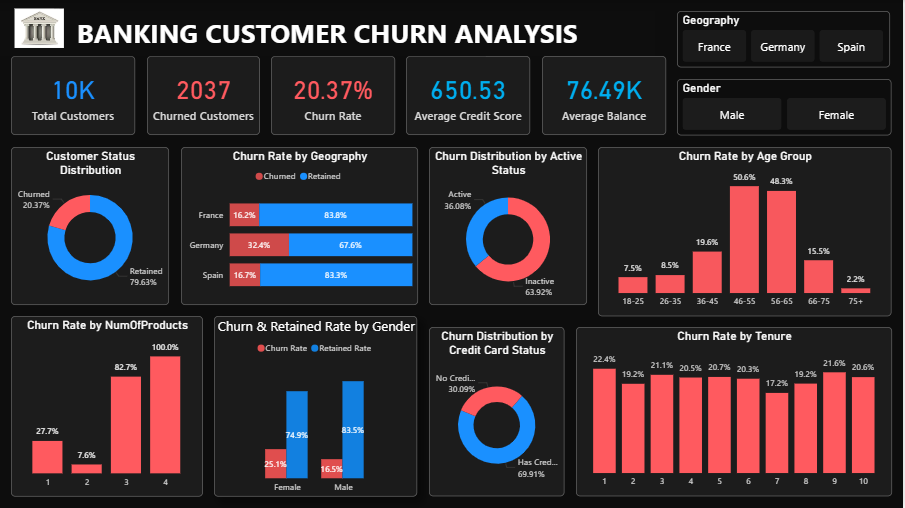

Layout of this report page (visuals, bound fields, positions):
{"tool":"powerbi","page":{"name":"Page 1","canvas":[1280,720],"ordinal":0},"visuals":[{"type":"card","fields":{"Values":["Measures (All Here).Churn Rate"]},"box":[384,80,176,112],"z":0},{"type":"card","fields":{"Values":["Measures (All Here).Churned Customers"]},"box":[208,80,160,112],"z":1000},{"type":"card","fields":{"Values":["Measures (All Here).Average Credit Score"]},"box":[576,80,176,112],"z":2000},{"type":"card","fields":{"Values":["Measures (All Here).Average Balance"]},"box":[768,80,176,112],"z":3000},{"type":"card","fields":{"Values":["Measures (All Here).Total Customers"]},"box":[16,80,176,112],"z":4000},{"type":"donutChart","title":"Customer Status Distribution","fields":{"Y":["CountNonNull(BANKING CUSTOMER CHURN DATASET.CustomerId)"],"Category":["BANKING CUSTOMER CHURN DATASET.Customer Status"]},"box":[16,208,224,224],"z":5000},{"type":"barChart","title":"Churn Rate by Geography","fields":{"Category":["BANKING CUSTOMER CHURN DATASET.Geography"],"Series":["BANKING CUSTOMER CHURN DATASET.Customer Status"],"Y":["Measures (All Here).Customer % by Geography"]},"box":[256,208,336,224],"z":6000},{"type":"clusteredColumnChart","title":"Churn & Retained Rate by Gender","fields":{"Category":["BANKING CUSTOMER CHURN DATASET.Gender"],"Y":["Measures (All Here).Churn Rate","Measures (All Here).Retained Rate"]},"box":[304,448,288,256],"z":7000},{"type":"clusteredColumnChart","title":"Churn Rate by Age Group","fields":{"Category":["BANKING CUSTOMER CHURN DATASET.Age Group"],"Y":["Measures (All Here).Churn Rate"]},"box":[848,208,416,240],"z":8000},{"type":"clusteredColumnChart","title":"Churn Rate by NumOfProducts","fields":{"Category":["BANKING CUSTOMER CHURN DATASET.NumOfProducts"],"Y":["Measures (All Here).Churn Rate"]},"box":[16,448,272,256],"z":9000},{"type":"donutChart","title":"Churn Distribution by Active Status","fields":{"Category":["BANKING CUSTOMER CHURN DATASET.Active Status"],"Y":["Measures (All Here).Churned Customers"]},"box":[608,208,224,224],"z":10000},{"type":"donutChart","title":"Churn Distribution by Credit Card Status","fields":{"Y":["Measures (All Here).Churned Customers"],"Category":["BANKING CUSTOMER CHURN DATASET.Credit Card Status"]},"box":[608,464,192,240],"z":11000},{"type":"shape","box":[16,16,672,64],"z":12000},{"type":"textbox","box":[0,16,928,64],"z":13000},{"type":"clusteredColumnChart","title":"Churn Rate by Tenure","fields":{"Category":["BANKING CUSTOMER CHURN DATASET.Tenure"],"Y":["Measures (All Here).Churn Rate"]},"box":[816,464,448,240],"z":14000},{"type":"advancedSlicerVisual","fields":{"Values":["BANKING CUSTOMER CHURN DATASET.Gender"]},"box":[960,112,304,80],"z":15000},{"type":"image","box":[16,0,80,80],"z":16000},{"type":"advancedSlicerVisual","fields":{"Values":["BANKING CUSTOMER CHURN DATASET.Geography"]},"box":[960,16,302,80],"z":17000}]}

Visuals, with their boxes in screenshot pixels (x1, y1, x2, y2), scaled from the page's 1280x720 canvas onto the 905x508 screenshot:
card - Measures (All Here).Churn Rate: [272, 56, 396, 135]
card - Measures (All Here).Churned Customers: [147, 56, 260, 135]
card - Measures (All Here).Average Credit Score: [407, 56, 532, 135]
card - Measures (All Here).Average Balance: [543, 56, 667, 135]
card - Measures (All Here).Total Customers: [11, 56, 136, 135]
"Customer Status Distribution" donutChart: [11, 147, 170, 305]
"Churn Rate by Geography" barChart: [181, 147, 419, 305]
"Churn & Retained Rate by Gender" clusteredColumnChart: [215, 316, 419, 497]
"Churn Rate by Age Group" clusteredColumnChart: [600, 147, 894, 316]
"Churn Rate by NumOfProducts" clusteredColumnChart: [11, 316, 204, 497]
"Churn Distribution by Active Status" donutChart: [430, 147, 588, 305]
"Churn Distribution by Credit Card Status" donutChart: [430, 327, 566, 497]
shape: [11, 11, 486, 56]
textbox: [0, 11, 656, 56]
"Churn Rate by Tenure" clusteredColumnChart: [577, 327, 894, 497]
advancedSlicerVisual - BANKING CUSTOMER CHURN DATASET.Gender: [679, 79, 894, 135]
image: [11, 0, 68, 56]
advancedSlicerVisual - BANKING CUSTOMER CHURN DATASET.Geography: [679, 11, 892, 68]
